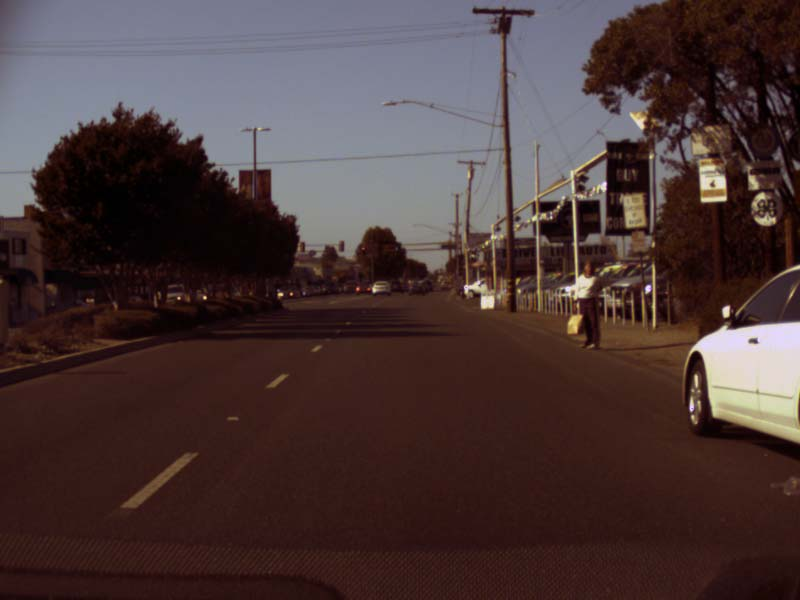Green: (393, 242, 398, 251)
Red: (360, 246, 366, 255)
